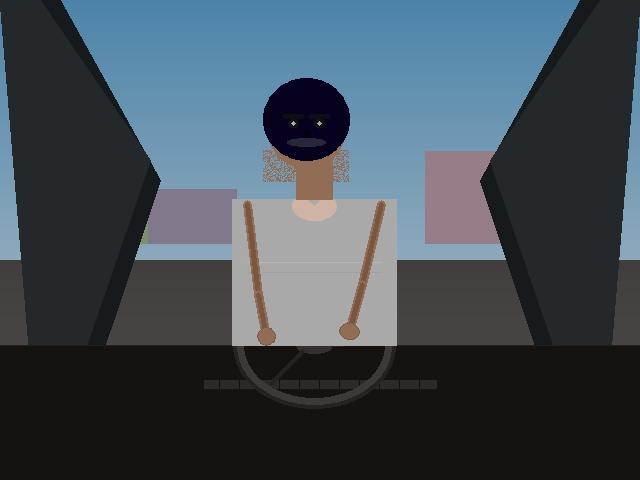normal_driving: (122, 199, 314, 345)
